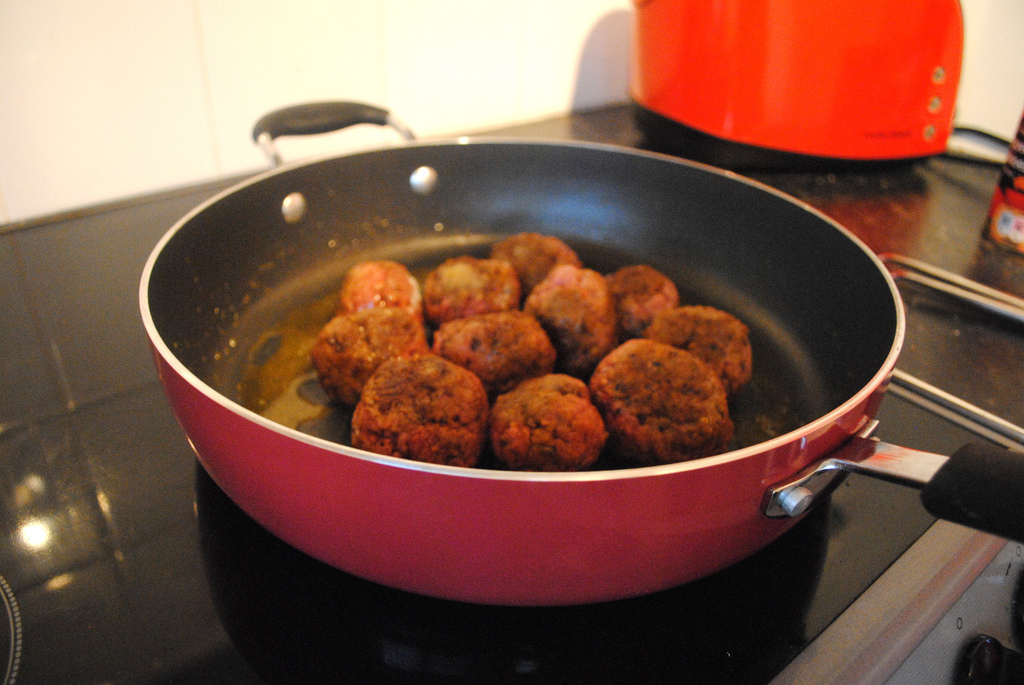meatballs: (362, 259, 731, 450)
